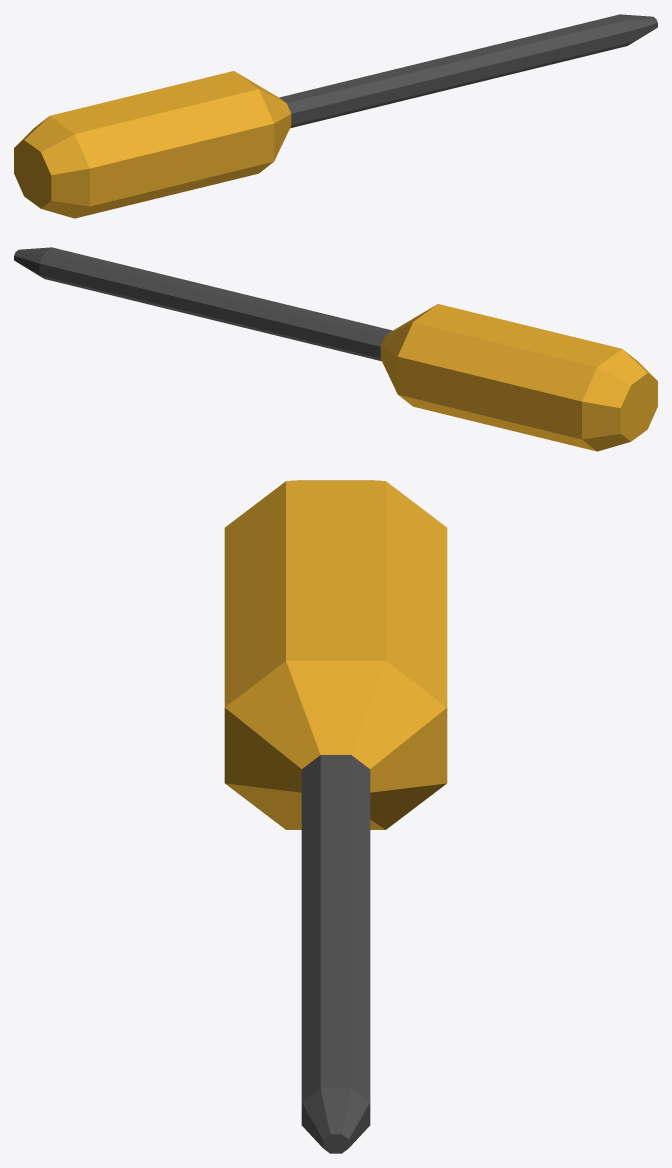
3 views of the same model, one above another, from view 1: azimuth 30°, elevation 25°; view 2: azimuth 150°, elevation 25°; view 3: azimuth 270°, elevation 25° (orthographic). The views are drawn at different scales.
Visible parts, largest first — view 1: F-8; view 2: F-8; view 3: F-8.
Boxes of the visible parts, left/top/right/bottom form: F-8: left=14, top=14, right=657, bottom=218; F-8: left=14, top=247, right=657, bottom=451; F-8: left=224, top=480, right=447, bottom=1153.
Bounding box in the file's own units: 71 × 9.22 × 10.99.
